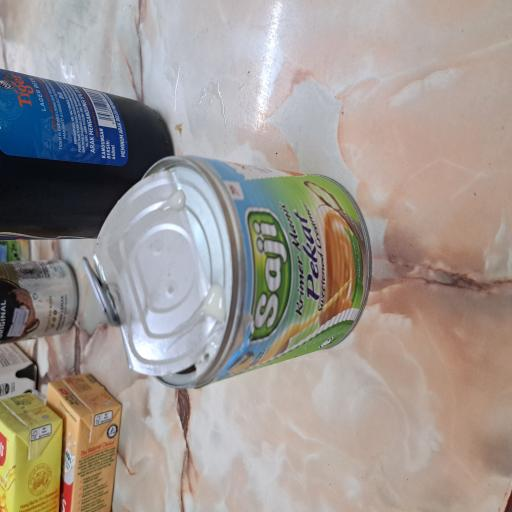can: (92, 122, 269, 496), (126, 0, 192, 105)
drink carton: (0, 62, 104, 164), (0, 0, 90, 84)
glass bottle: (202, 0, 336, 234)
pop tab: (138, 108, 192, 164)
